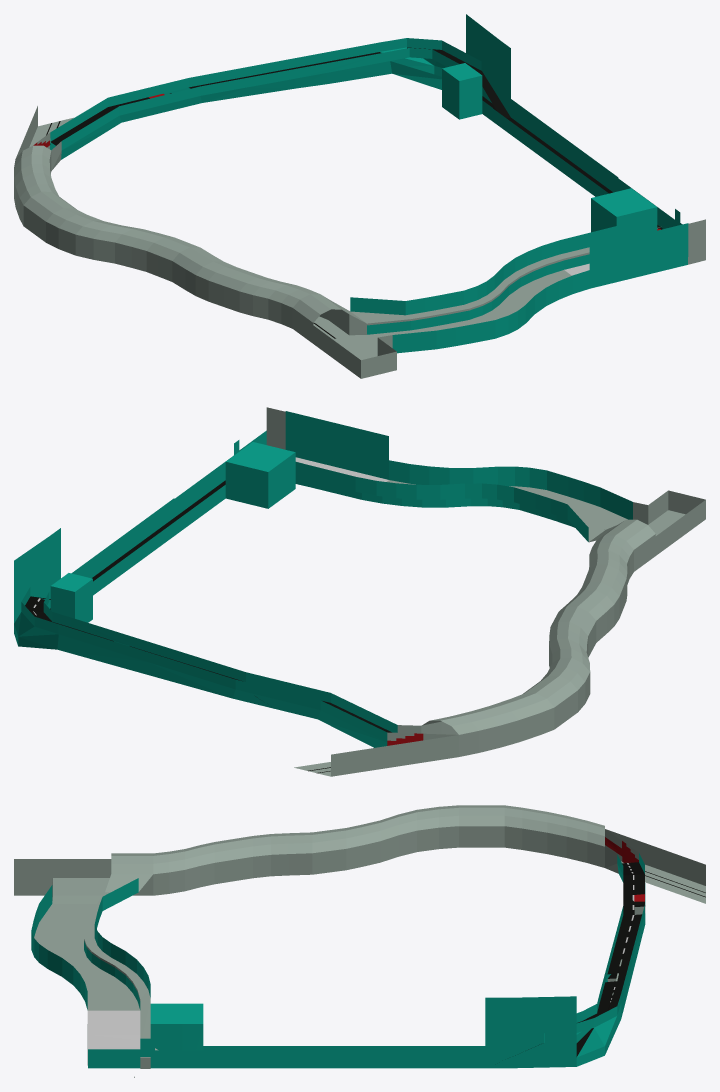
Rendered from finalTrack1c.obj.
3 renders of one model, top to bottom at view 1: azimuth 30°, elevation 25°; view 2: azimuth 150°, elevation 25°; view 3: azimuth 270°, elevation 25°, orthographic. The views are drawn at different scales.
Visible parts, largest first — view 1: Cube; view 2: Cube; view 3: Cube.
Part boxes in pixels (box(x1,y1,x2,y2)): Cube: box(14, 14, 705, 378); Cube: box(14, 407, 705, 776); Cube: box(14, 805, 705, 1077).
Bounding box in the file's own units: 1340 × 213 × 1643.
